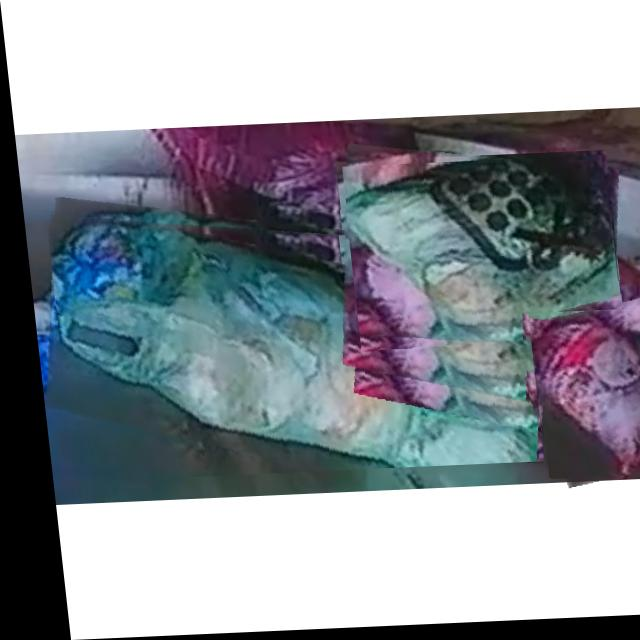general_trashbag: (45, 219, 539, 470), (341, 164, 608, 345)
other_trashbag: (524, 316, 640, 480)
